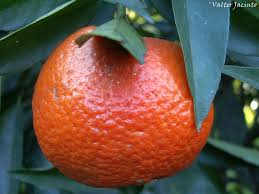orange: (27, 27, 213, 183)
